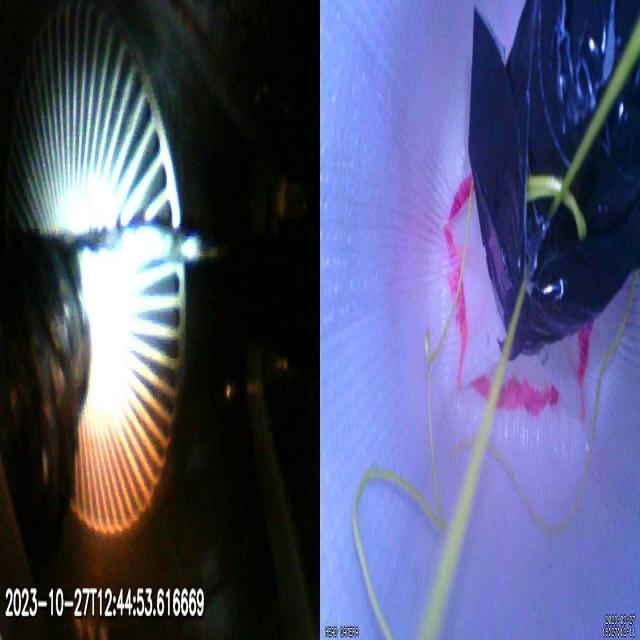red-circle: (445, 172, 594, 415)
